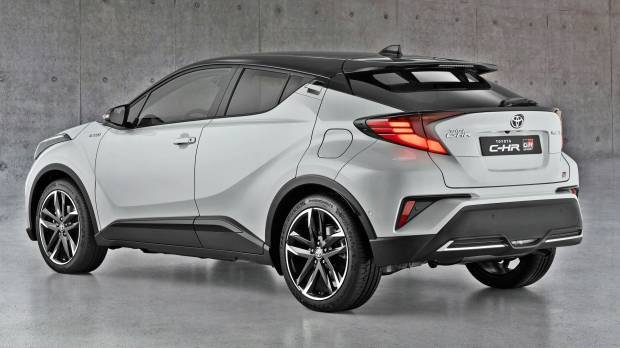mobil: (27, 43, 608, 302)
